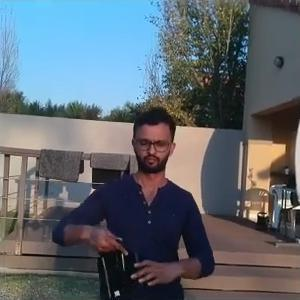follow: (48, 99, 217, 298)
